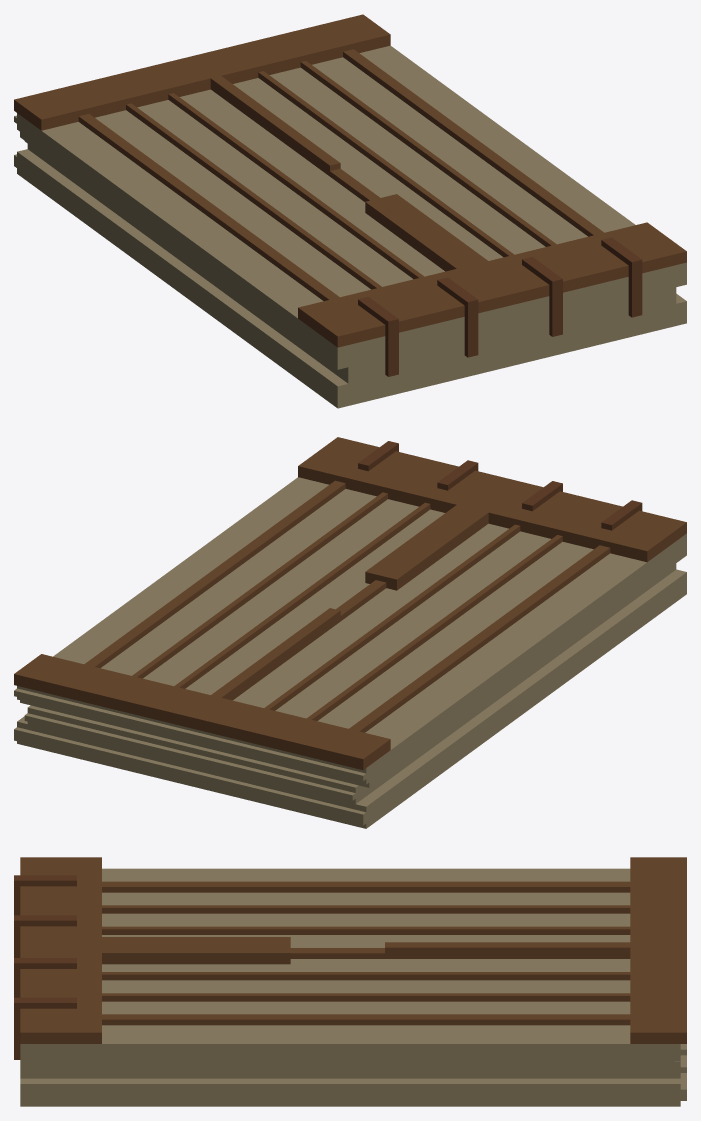
Rendered from aketon_pants_canvas.glb.
3 renders of one model, top to bottom at view 1: azimuth 30°, elevation 25°; view 2: azimuth 150°, elevation 25°; view 3: azimuth 270°, elevation 25°, orthographic. The views are drawn at different scales.
Visible parts, largest first — view 1: aketon_pants_canvas:compound; view 2: aketon_pants_canvas:compound; view 3: aketon_pants_canvas:compound.
Boxes of the visible parts, bbox=[...] form: aketon_pants_canvas:compound: bbox=[14, 14, 686, 408]; aketon_pants_canvas:compound: bbox=[14, 437, 686, 828]; aketon_pants_canvas:compound: bbox=[14, 857, 686, 1106].
Size of the model in its own units: 0.264 by 0.056 by 0.428.
